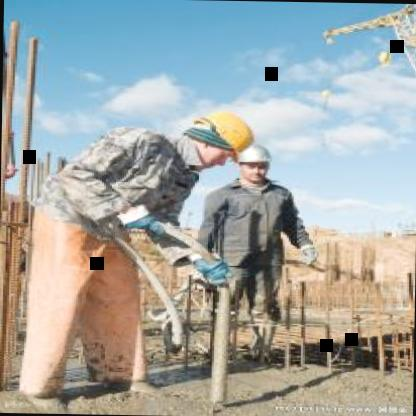helmet: (178, 104, 256, 168), (237, 140, 272, 180)
